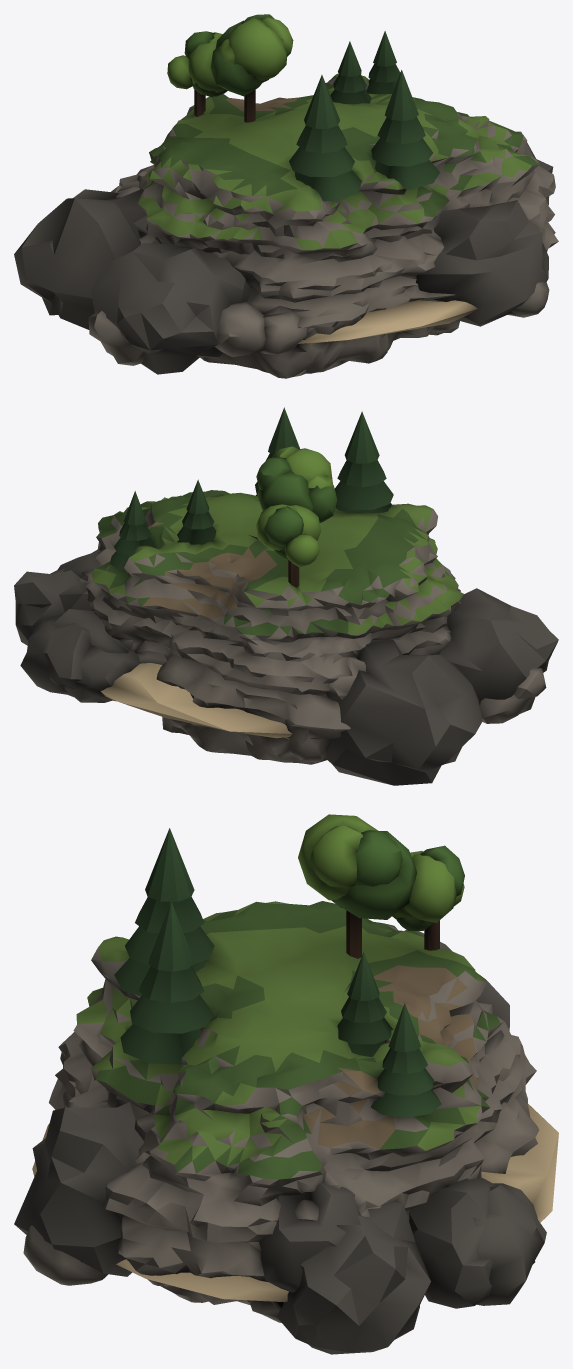
The model's file is island_rock.glb.
3 renders of one model, top to bottom at view 1: azimuth 30°, elevation 25°; view 2: azimuth 150°, elevation 25°; view 3: azimuth 270°, elevation 25°, orthographic. The views are drawn at different scales.
Parts seen in each view (by area): view 1: island_rock; view 2: island_rock; view 3: island_rock.
Boxes of the visible parts, box(x1,y1,x2,y2) form: island_rock: box(14, 14, 558, 378); island_rock: box(14, 407, 558, 785); island_rock: box(14, 814, 558, 1354).
Size of the model in its own units: 2.21 by 1.25 by 1.53.
